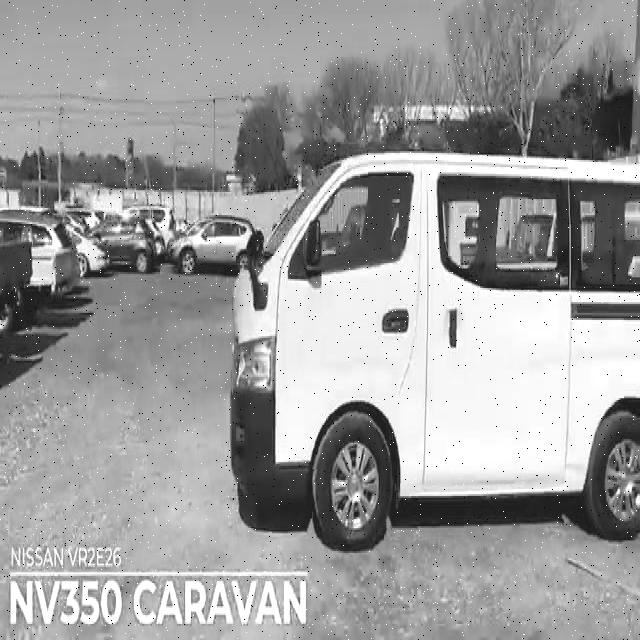Van: (235, 144, 640, 551)
